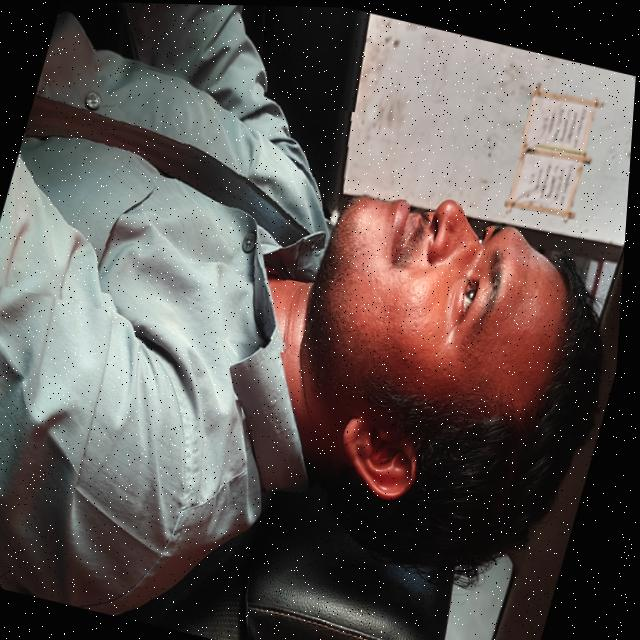seatbelt: (0, 39, 369, 354)
